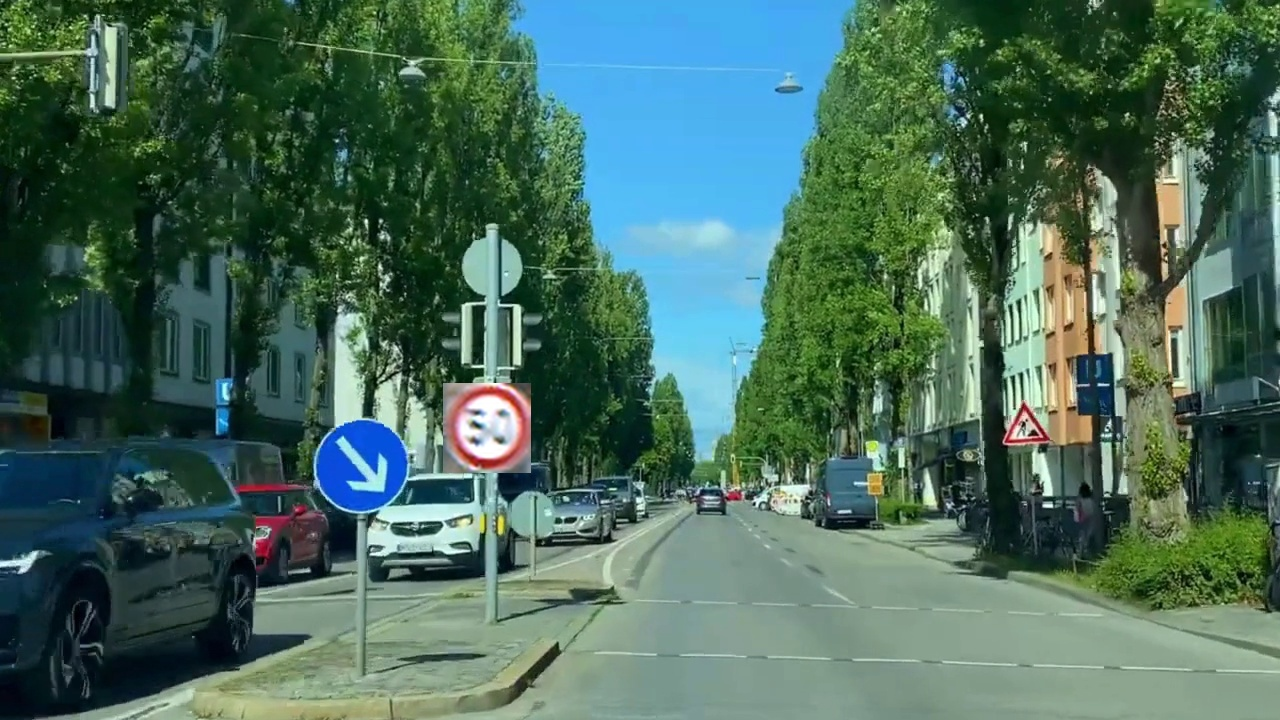Speed 50: (443, 383, 531, 473)
